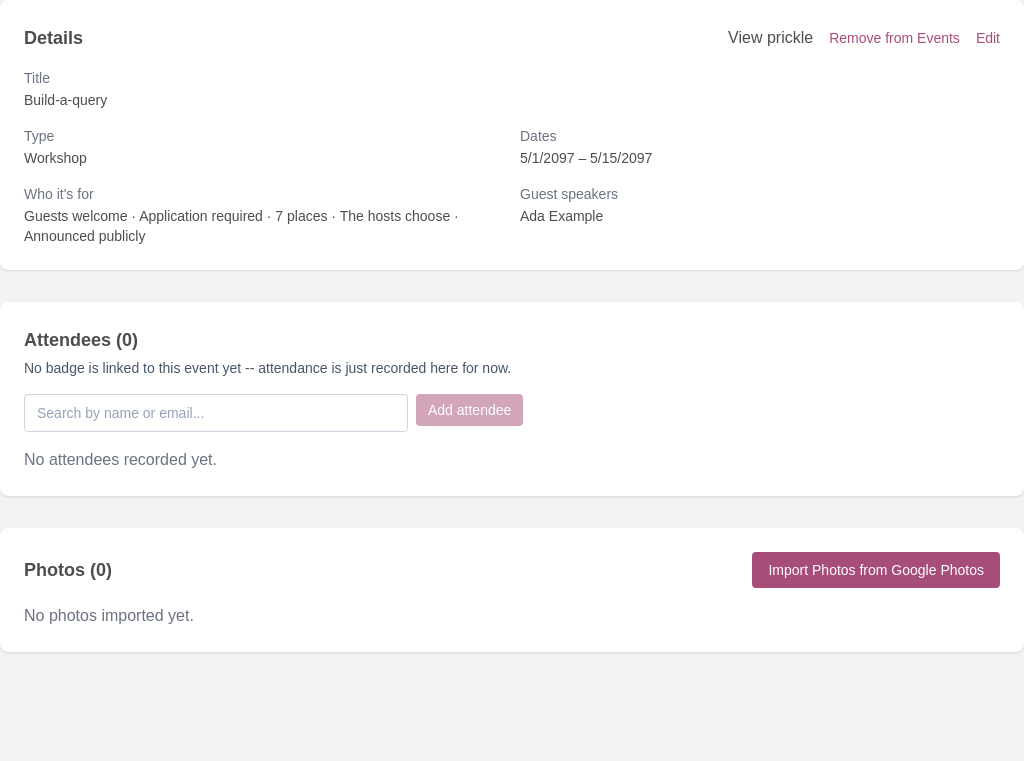
Test: admin event on a calendar prickle › edits the dates of an event made in the Hub
What coordinates should you click on to do the following:
click the button "Edit"
I would click on:
 (988, 38)
Its box is left=976, top=26, right=1000, bottom=50.
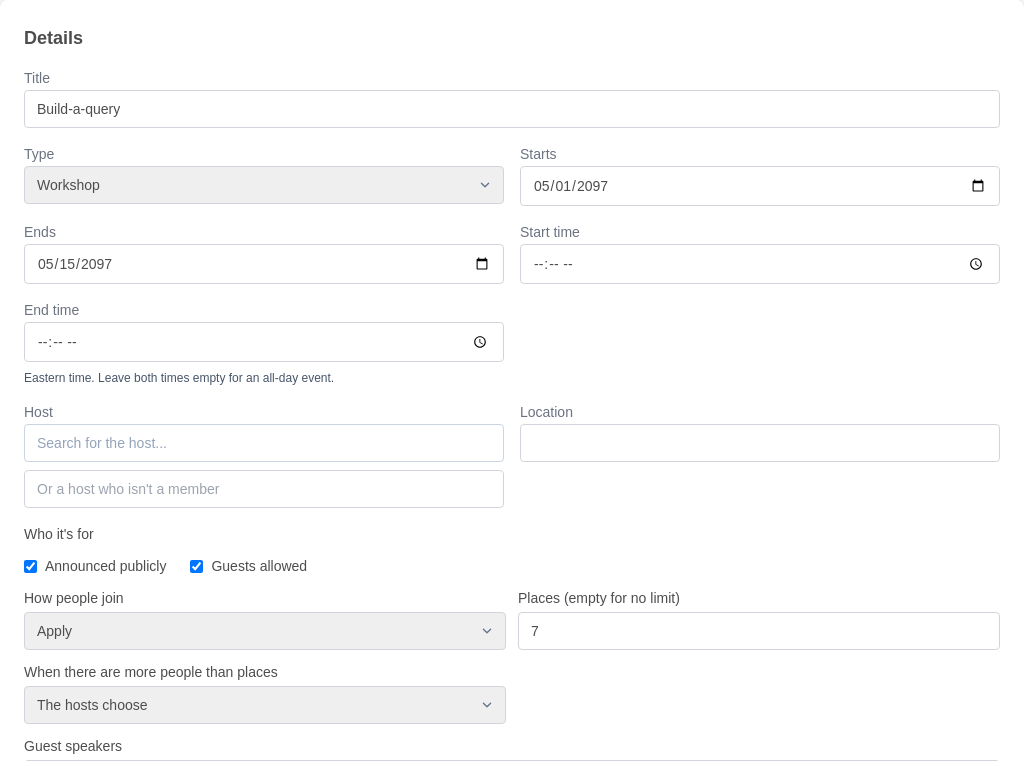
Check: the number of date fields is 2, box left=520, top=166, right=1000, bottom=206; left=24, top=244, right=504, bottom=284
